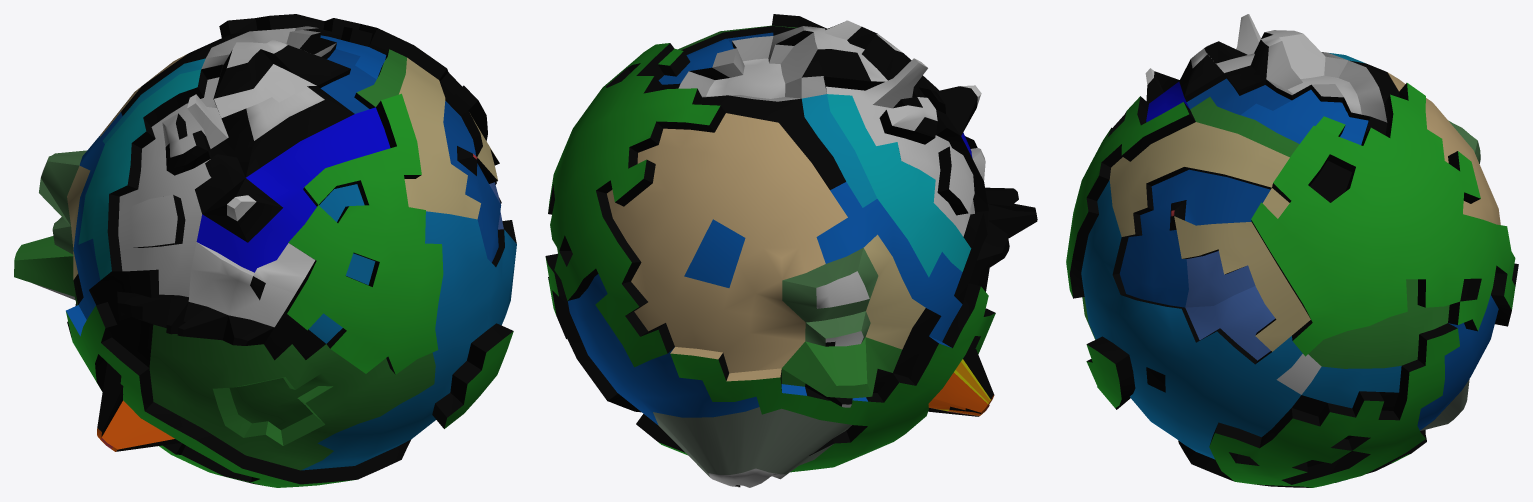
The model's file is planet_1_optimized.glb.
3 renders of one model, left to right at view 1: azimuth 30°, elevation 25°; view 2: azimuth 150°, elevation 25°; view 3: azimuth 270°, elevation 25°, orthographic. The views are drawn at different scales.
Parts seen in each view (by area): view 1: pPlatonic1_lambert1_0; view 2: pPlatonic1_lambert1_0; view 3: pPlatonic1_lambert1_0.
Part boxes in pixels (x1,y1,x2,y2): pPlatonic1_lambert1_0: (14, 14, 516, 487); pPlatonic1_lambert1_0: (545, 14, 1037, 487); pPlatonic1_lambert1_0: (1066, 14, 1518, 487).
Bounding box in the file's own units: 0.213 × 0.2145 × 0.2117.
